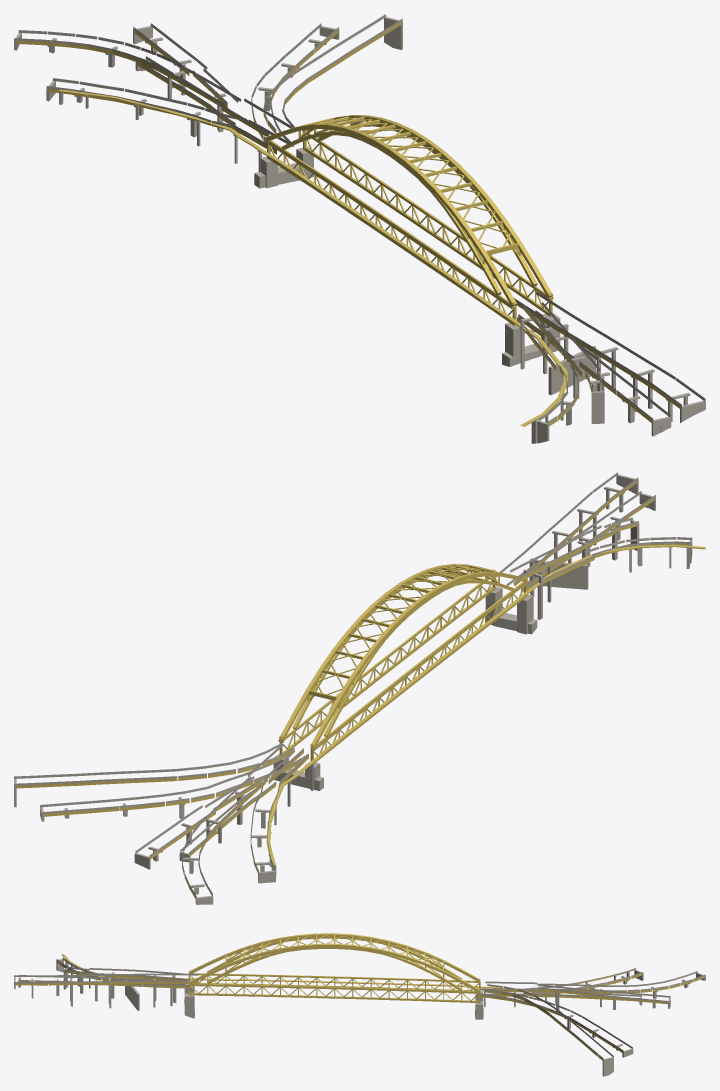
Rendered from pit-fort-pitt-bridge.glb.
3 renders of one model, top to bottom at view 1: azimuth 30°, elevation 25°; view 2: azimuth 150°, elevation 25°; view 3: azimuth 270°, elevation 25°, orthographic. The views are drawn at different scales.
Parts seen in each view (by area): view 1: Fort Pitt Bridge; view 2: Fort Pitt Bridge; view 3: Fort Pitt Bridge.
Boxes of the visible parts, box(x1,y1,x2,y2) form: Fort Pitt Bridge: box(14, 14, 705, 443); Fort Pitt Bridge: box(14, 472, 705, 904); Fort Pitt Bridge: box(14, 933, 705, 1076).
Size of the model in its own units: 183 by 64.35 by 547.
